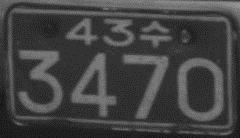0: (176, 56, 225, 122)
3: (17, 48, 63, 115), (102, 17, 135, 47)
4: (69, 50, 117, 118), (65, 17, 98, 45)
7: (122, 53, 169, 119)
수: (140, 19, 172, 48)
